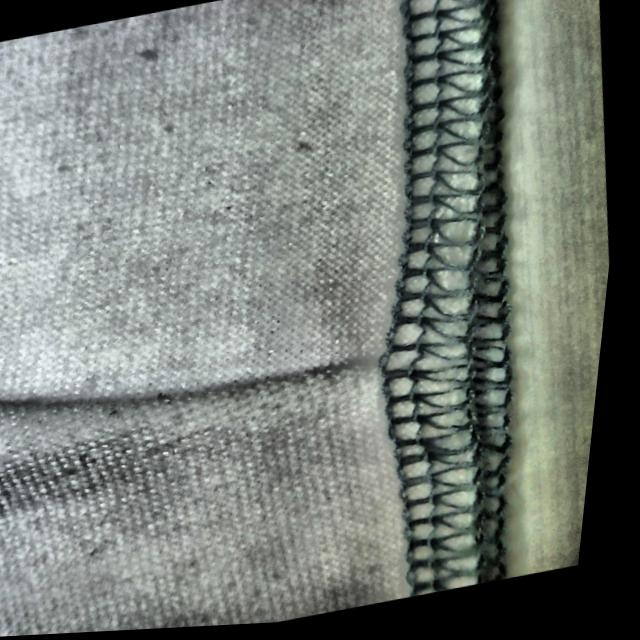seam: (93, 290, 491, 503)
